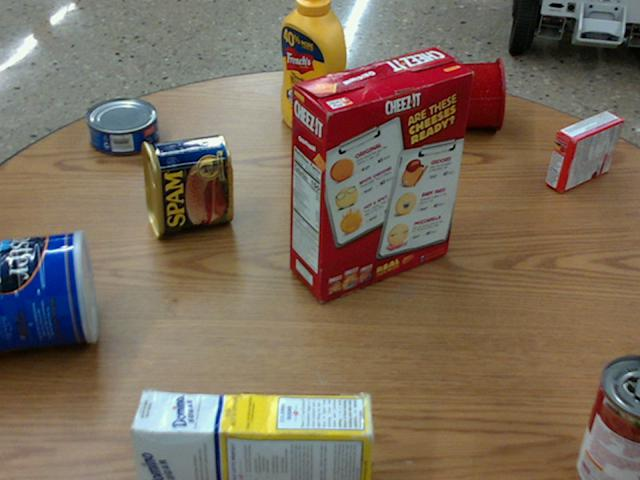cracker_box: (289, 46, 471, 300)
gelatin_box: (546, 112, 623, 193)
master_chef_can: (0, 229, 98, 351)
mug: (434, 56, 504, 129)
mustard_bottle: (280, 0, 344, 139)
potted_meat_can: (140, 133, 231, 235)
sugar_box: (126, 391, 372, 479)
tomato_soup_can: (577, 352, 639, 479)
tuna_fish_can: (86, 96, 158, 153)
